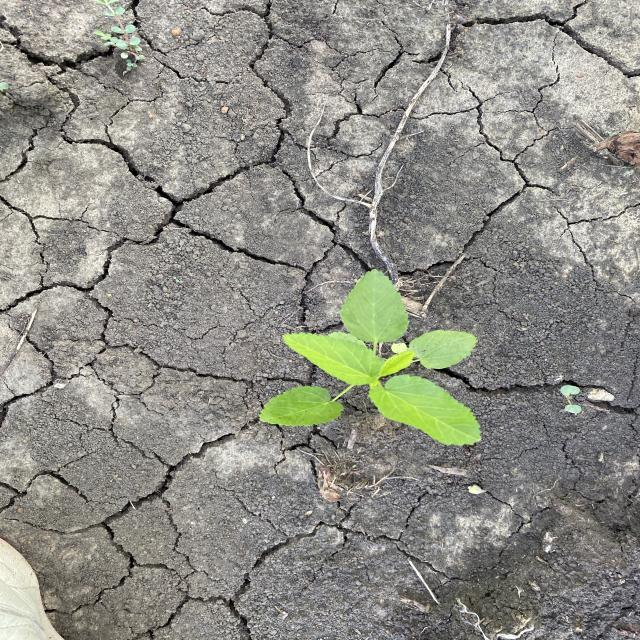PricklySida: (256, 267, 484, 450)
SpottedSpurge: (89, 0, 148, 73)
